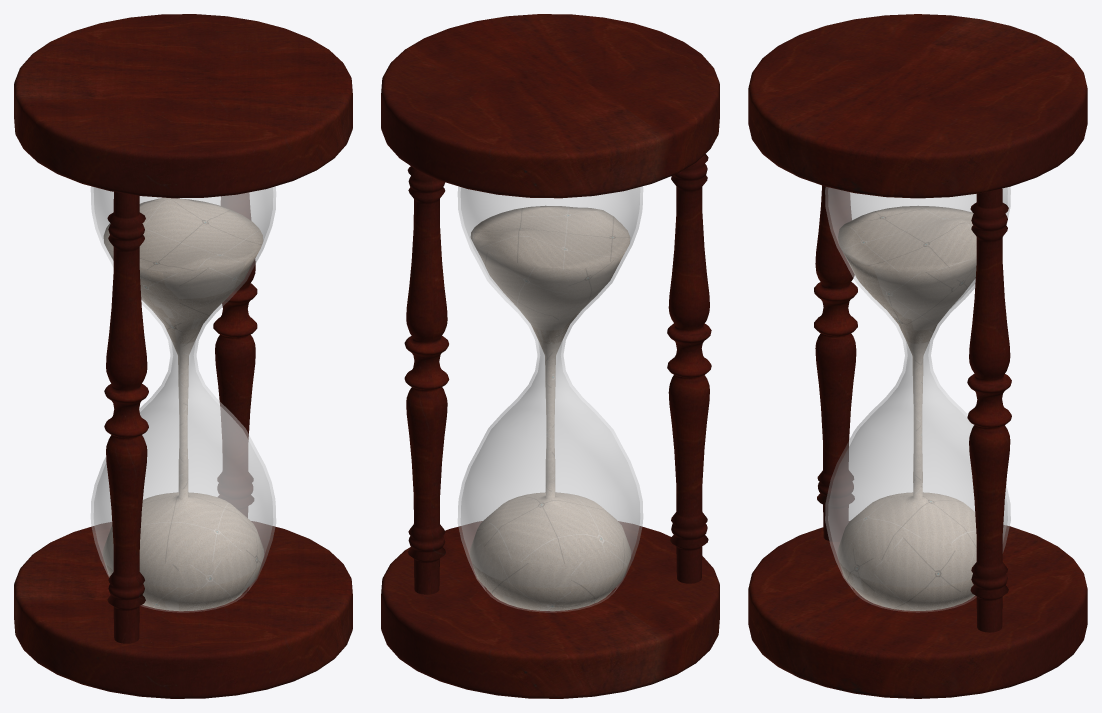
Rendered from hourglass.glb.
3 views of the same model, side by side, from view 1: azimuth 30°, elevation 25°; view 2: azimuth 150°, elevation 25°; view 3: azimuth 270°, elevation 25° (orthographic).
Parts seen in each view (by area): view 1: Top, Glass, Base, Sand, Spindle3, Spindle1; view 2: Glass, Top, Base, Sand, Spindle1, Spindle3; view 3: Top, Glass, Base, Sand, Spindle1, Spindle3.
Boxes of the visible parts, box(x1,y1,x2,y2) form: Top: box(14, 14, 352, 198); Glass: box(91, 186, 275, 612); Base: box(14, 521, 352, 698); Sand: box(102, 197, 264, 611); Spindle3: box(104, 192, 148, 643); Spindle1: box(213, 192, 257, 517); Glass: box(458, 186, 642, 612); Top: box(381, 14, 719, 198); Base: box(381, 521, 719, 698); Sand: box(469, 205, 631, 611); Spindle1: box(404, 166, 449, 594); Spindle3: box(667, 154, 711, 583); Top: box(748, 14, 1087, 198); Glass: box(825, 187, 1010, 612); Base: box(748, 521, 1087, 698); Sand: box(837, 206, 976, 610); Spindle1: box(967, 188, 1011, 632); Spindle3: box(814, 185, 857, 541).
Size of the model in its own units: 0.1624 by 0.2879 by 0.1624.
3 materials, 2 textured.
